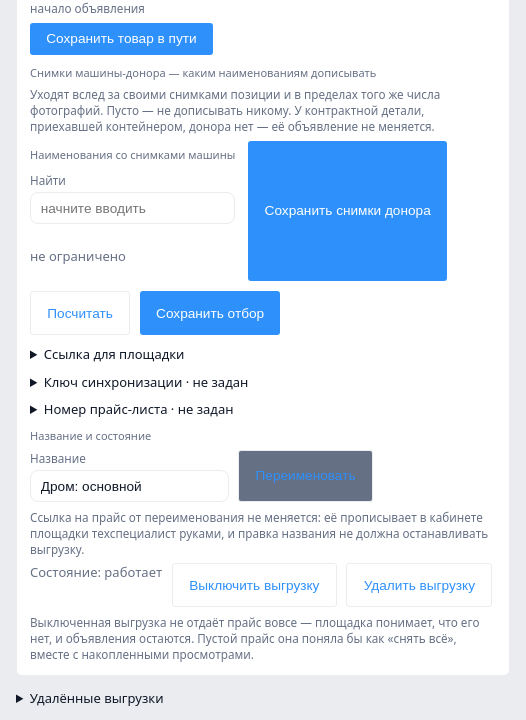
Test: выключение и удаление выгрузки › выключение уходит состоянием, а экран говорит, что это значит
(page scrolled)
Click the button "Выключить выгрузку".
click(254, 585)  # box left=172, top=563, right=337, bottom=607
(page scrolled)
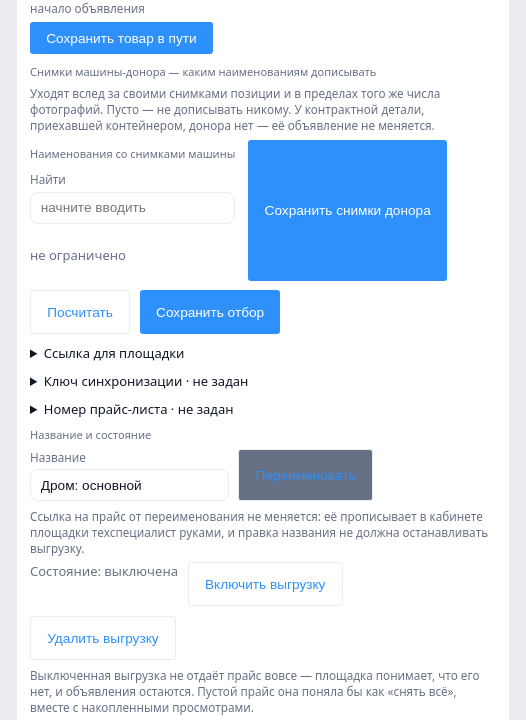
Expected: the button "Включить выгрузку" is shown, left=188, top=562, right=343, bottom=606
